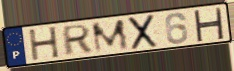6: (163, 11, 190, 45)
H: (26, 25, 61, 62), (191, 6, 225, 42)
M: (90, 17, 131, 55)
R: (62, 23, 93, 58)
X: (127, 13, 160, 52)
